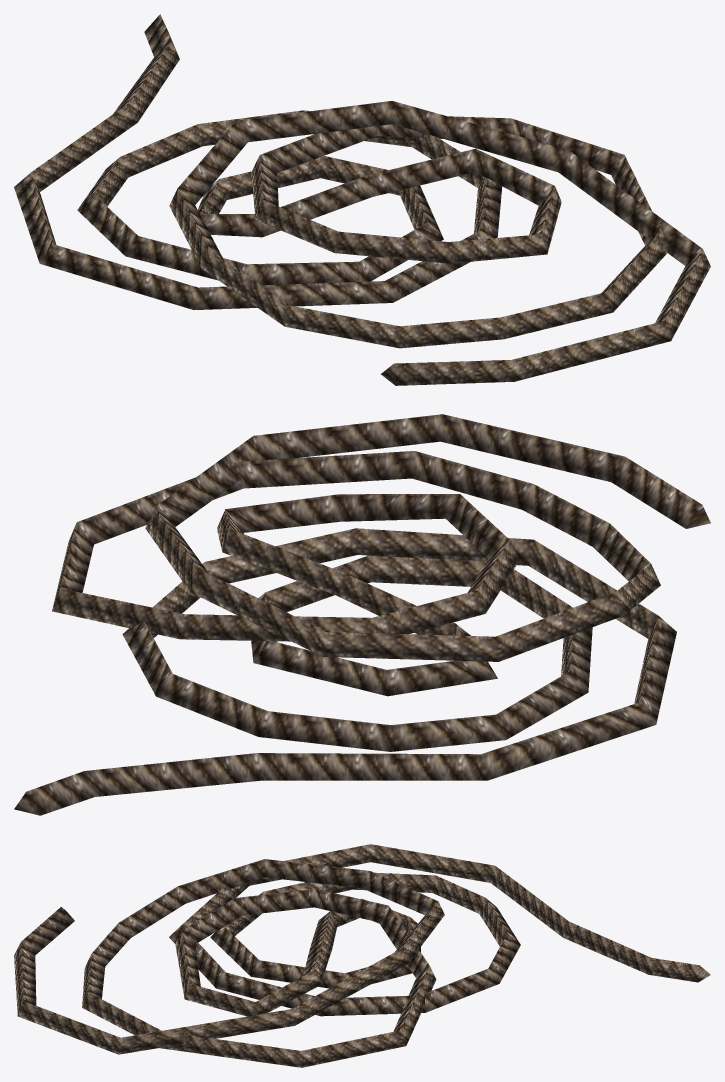
Rendered from Rope4_LOD1.fbx.
3 renders of one model, top to bottom at view 1: azimuth 30°, elevation 25°; view 2: azimuth 150°, elevation 25°; view 3: azimuth 270°, elevation 25°, orthographic. The views are drawn at different scales.
Visible parts, largest first — view 1: polySurface1138; view 2: polySurface1138; view 3: polySurface1138.
Part boxes in pixels (left/top/right/bottom): polySurface1138: left=14, top=14, right=710, bottom=385; polySurface1138: left=14, top=414, right=710, bottom=815; polySurface1138: left=14, top=844, right=710, bottom=1067.
Bounding box in the file's own units: 1.68 × 0.2045 × 2.35.
